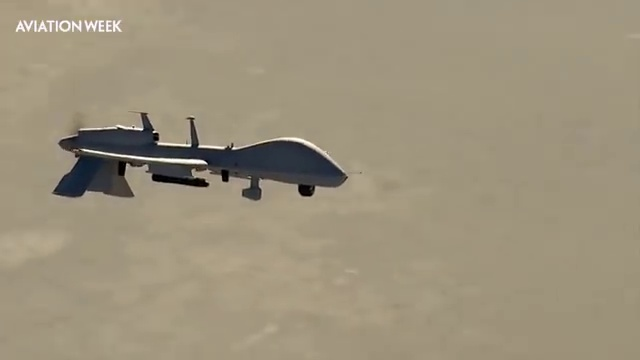military drone: (51, 109, 365, 201)
